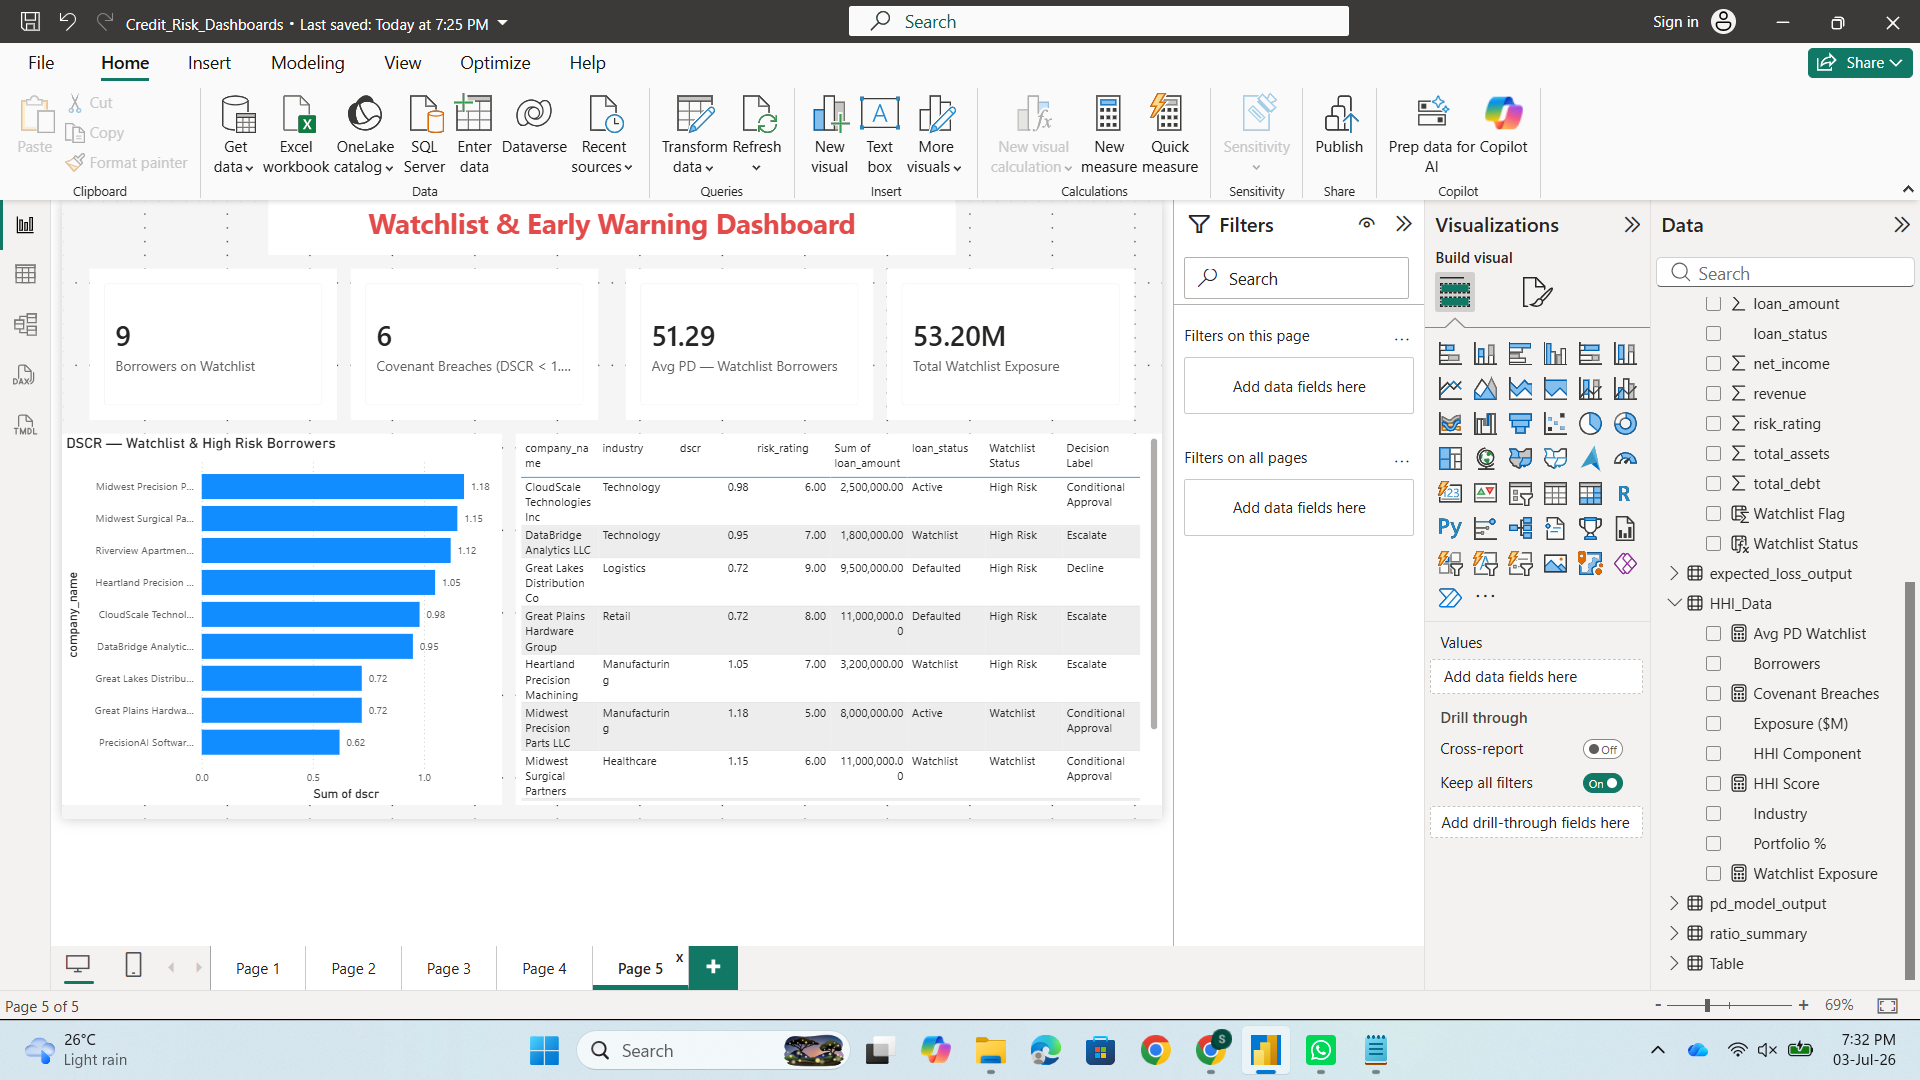

The dashboard page shown, as its layout file describes it:
{"tool":"powerbi","page":{"name":"Page 5","canvas":[1280,720],"ordinal":4},"visuals":[{"type":"textbox","box":[240,0,800,64],"z":0},{"type":"cardVisual","fields":{"Data":["Sum(borrowers_data.Watchlist Flag)"]},"box":[32,80,288,176],"z":1},{"type":"cardVisual","fields":{"Data":["HHI_Data.Covenant Breaches"]},"box":[336,80,288,176],"z":2},{"type":"cardVisual","fields":{"Data":["HHI_Data.Watchlist Exposure"]},"box":[960,80,288,176],"z":3},{"type":"cardVisual","fields":{"Data":["HHI_Data.Avg PD Watchlist"]},"box":[656,80,288,176],"z":4},{"type":"clusteredBarChart","title":"DSCR — Watchlist & High Risk Borrowers","fields":{"Category":["borrowers_data.company_name"],"Y":["Sum(borrowers_data.dscr)"]},"box":[0,272,512,432],"z":5},{"type":"tableEx","fields":{"Values":["borrowers_data.company_name","borrowers_data.industry","borrowers_data.dscr","borrowers_data.risk_rating","Sum(borrowers_data.loan_amount)","borrowers_data.loan_status","borrowers_data.Watchlist Status","borrowers_data.Decision Label"]},"box":[528,272,752,432],"z":6}]}

Visuals, with their boxes on the page's 1280x720 design canvas (x1, y1, x2, y2). These are canvas units, not pixel positions in the 1920x1080 screenshot, which may show the page scaled, cropped or inside an application window:
textbox: [left=240, top=0, right=1040, bottom=64]
cardVisual - Sum(borrowers_data.Watchlist Flag): [left=32, top=80, right=320, bottom=256]
cardVisual - HHI_Data.Covenant Breaches: [left=336, top=80, right=624, bottom=256]
cardVisual - HHI_Data.Watchlist Exposure: [left=960, top=80, right=1248, bottom=256]
cardVisual - HHI_Data.Avg PD Watchlist: [left=656, top=80, right=944, bottom=256]
"DSCR — Watchlist & High Risk Borrowers" clusteredBarChart: [left=0, top=272, right=512, bottom=704]
tableEx - borrowers_data.company_name x borrowers_data.industry: [left=528, top=272, right=1280, bottom=704]
